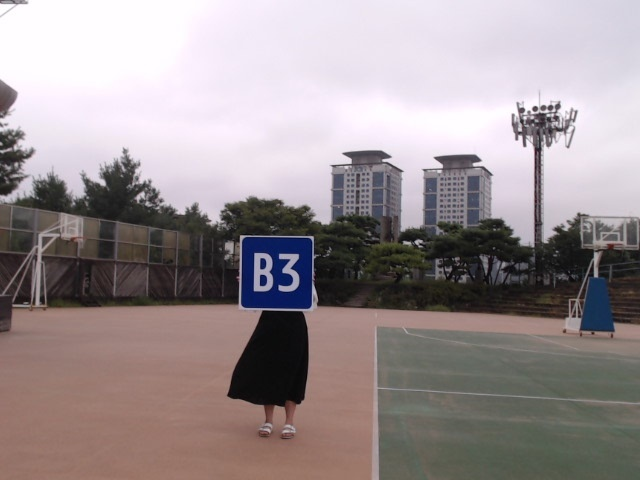delivery_b3: (240, 235, 315, 311)
